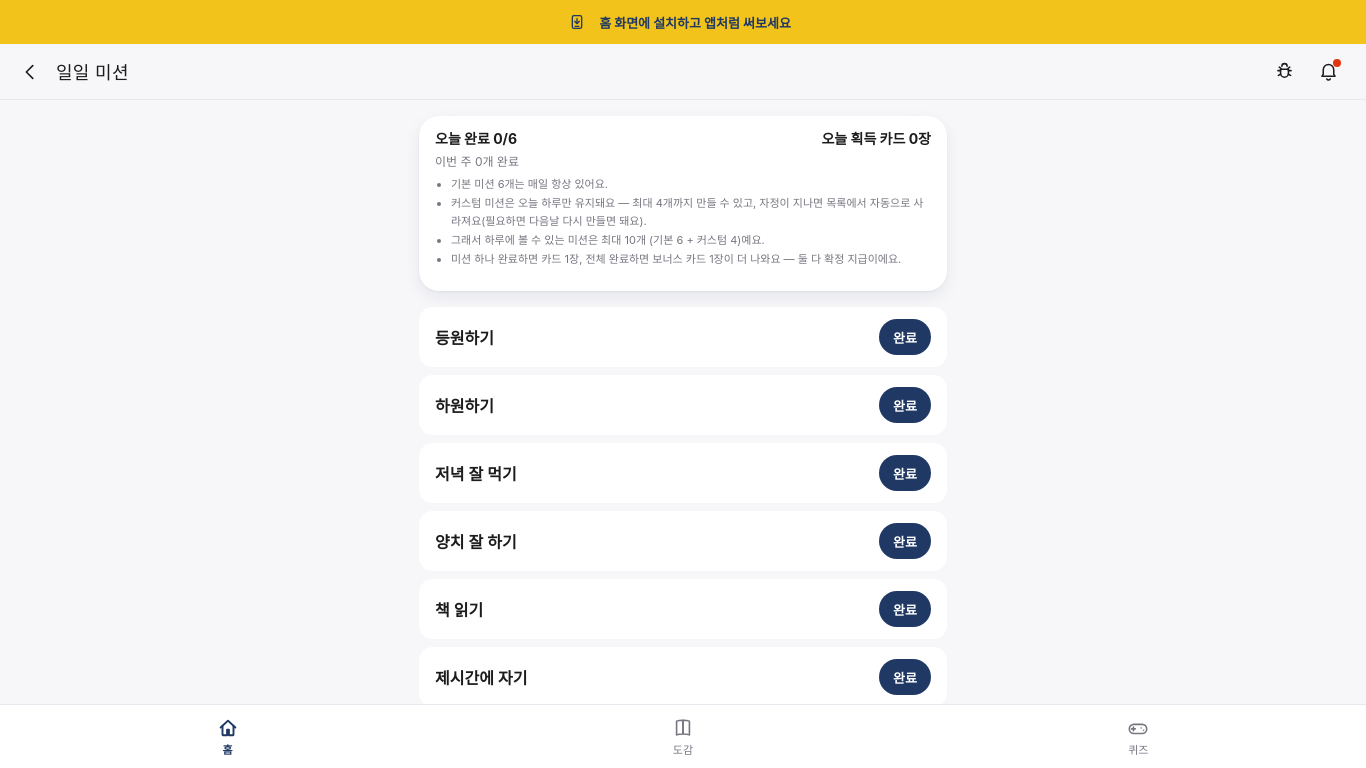
Scenario: DailyMission › 취소를 누르면 미션이 완료되지 않는다
The image size is (1366, 768).
Expected: the text "등원하기" is shown, [435,328,494,348]
Step 1. Click the button "완료" in the row of "등원하기" → click(905, 337), box [879,319,931,355]
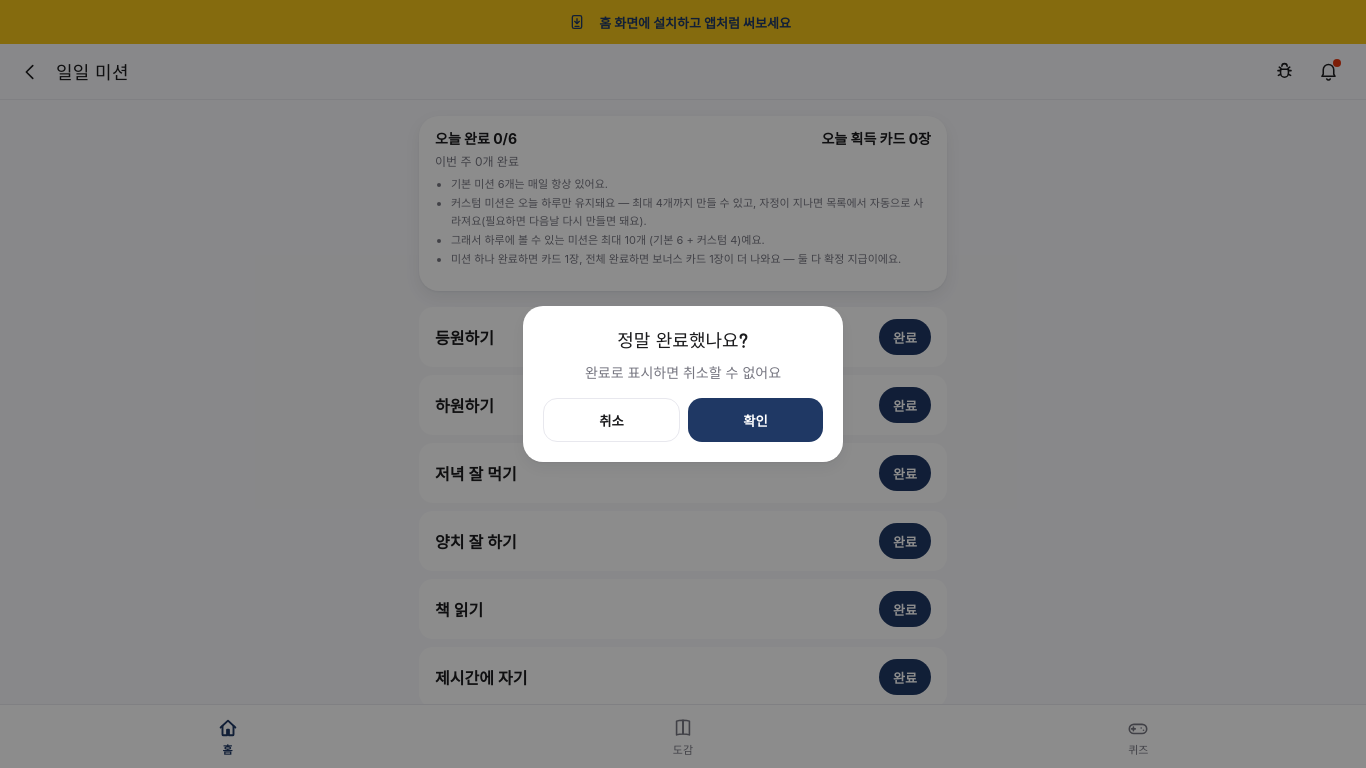
Step 2. Click the button "취소" → click(612, 420), box [543,398,680,442]
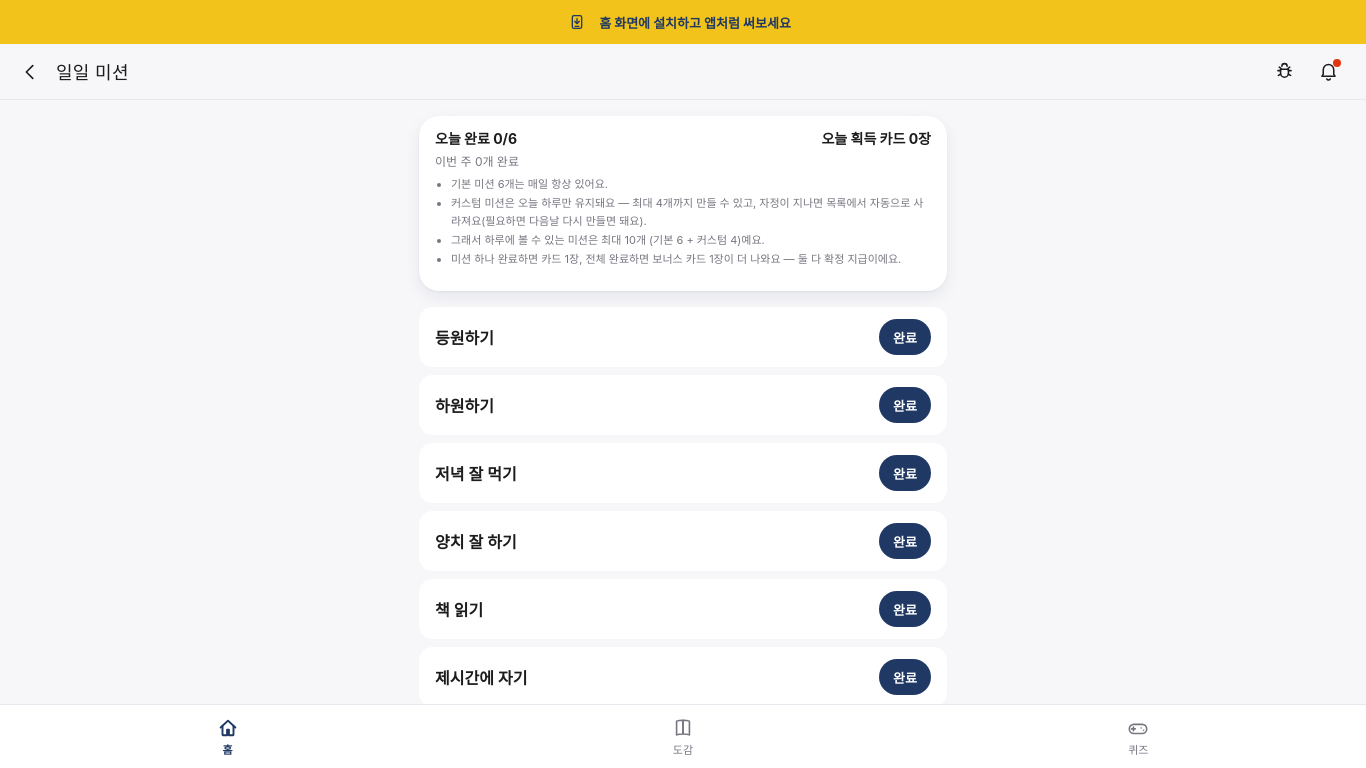
Expected: the number of buttons "완료" is 6, [879,319,931,355]; [879,387,931,423]; [879,455,931,491]; [879,523,931,559]; [879,591,931,627]; [879,659,931,695]
